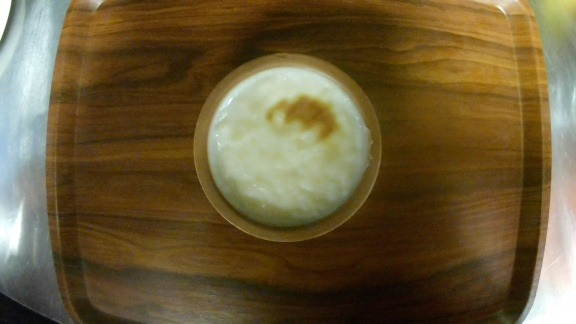sutlac: (193, 52, 382, 243)
